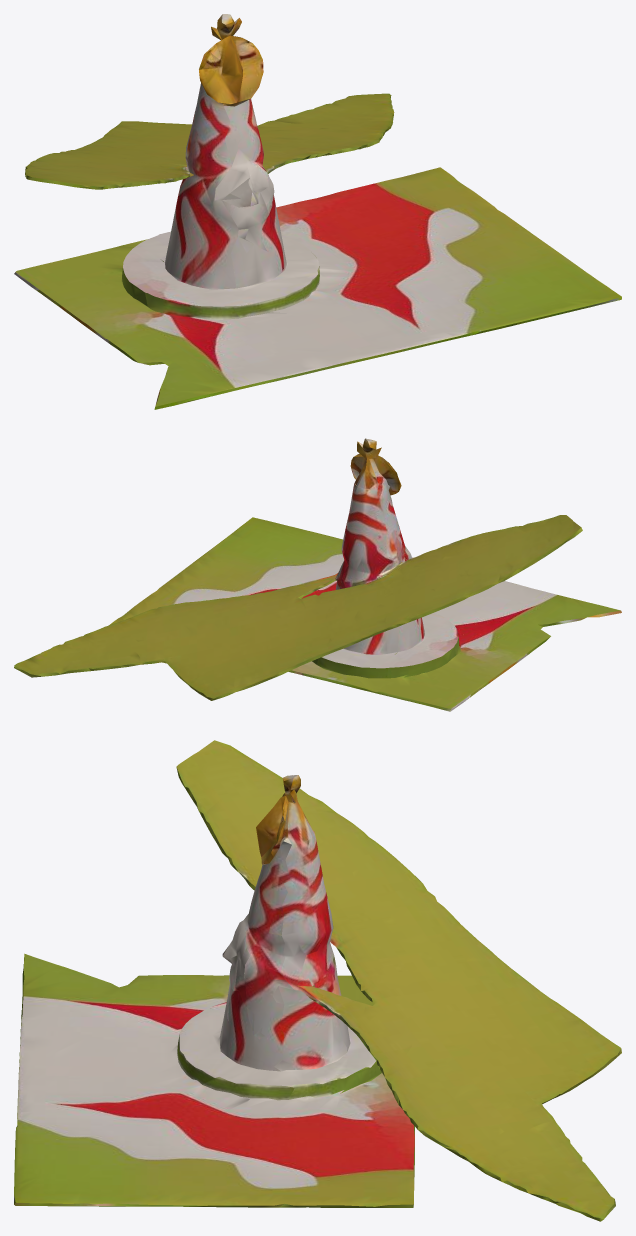
The model's file is tower-of-the-sun.glb.
3 views of the same model, one above another, from view 1: azimuth 30°, elevation 25°; view 2: azimuth 150°, elevation 25°; view 3: azimuth 270°, elevation 25° (orthographic). The views are drawn at different scales.
Visible parts, largest first — view 1: logan-textured.obj; view 2: logan-textured.obj; view 3: logan-textured.obj.
Part boxes in pixels (left/top/right/bottom): logan-textured.obj: left=14, top=14, right=621, bottom=409; logan-textured.obj: left=14, top=438, right=621, bottom=711; logan-textured.obj: left=14, top=740, right=621, bottom=1221.
Size of the model in its own units: 1 by 0.4666 by 0.8919.
Materials: 1 (1 with a texture image).
